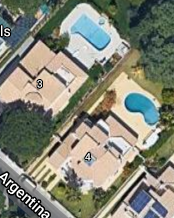pool: (73, 15, 111, 50), (125, 94, 157, 124)
